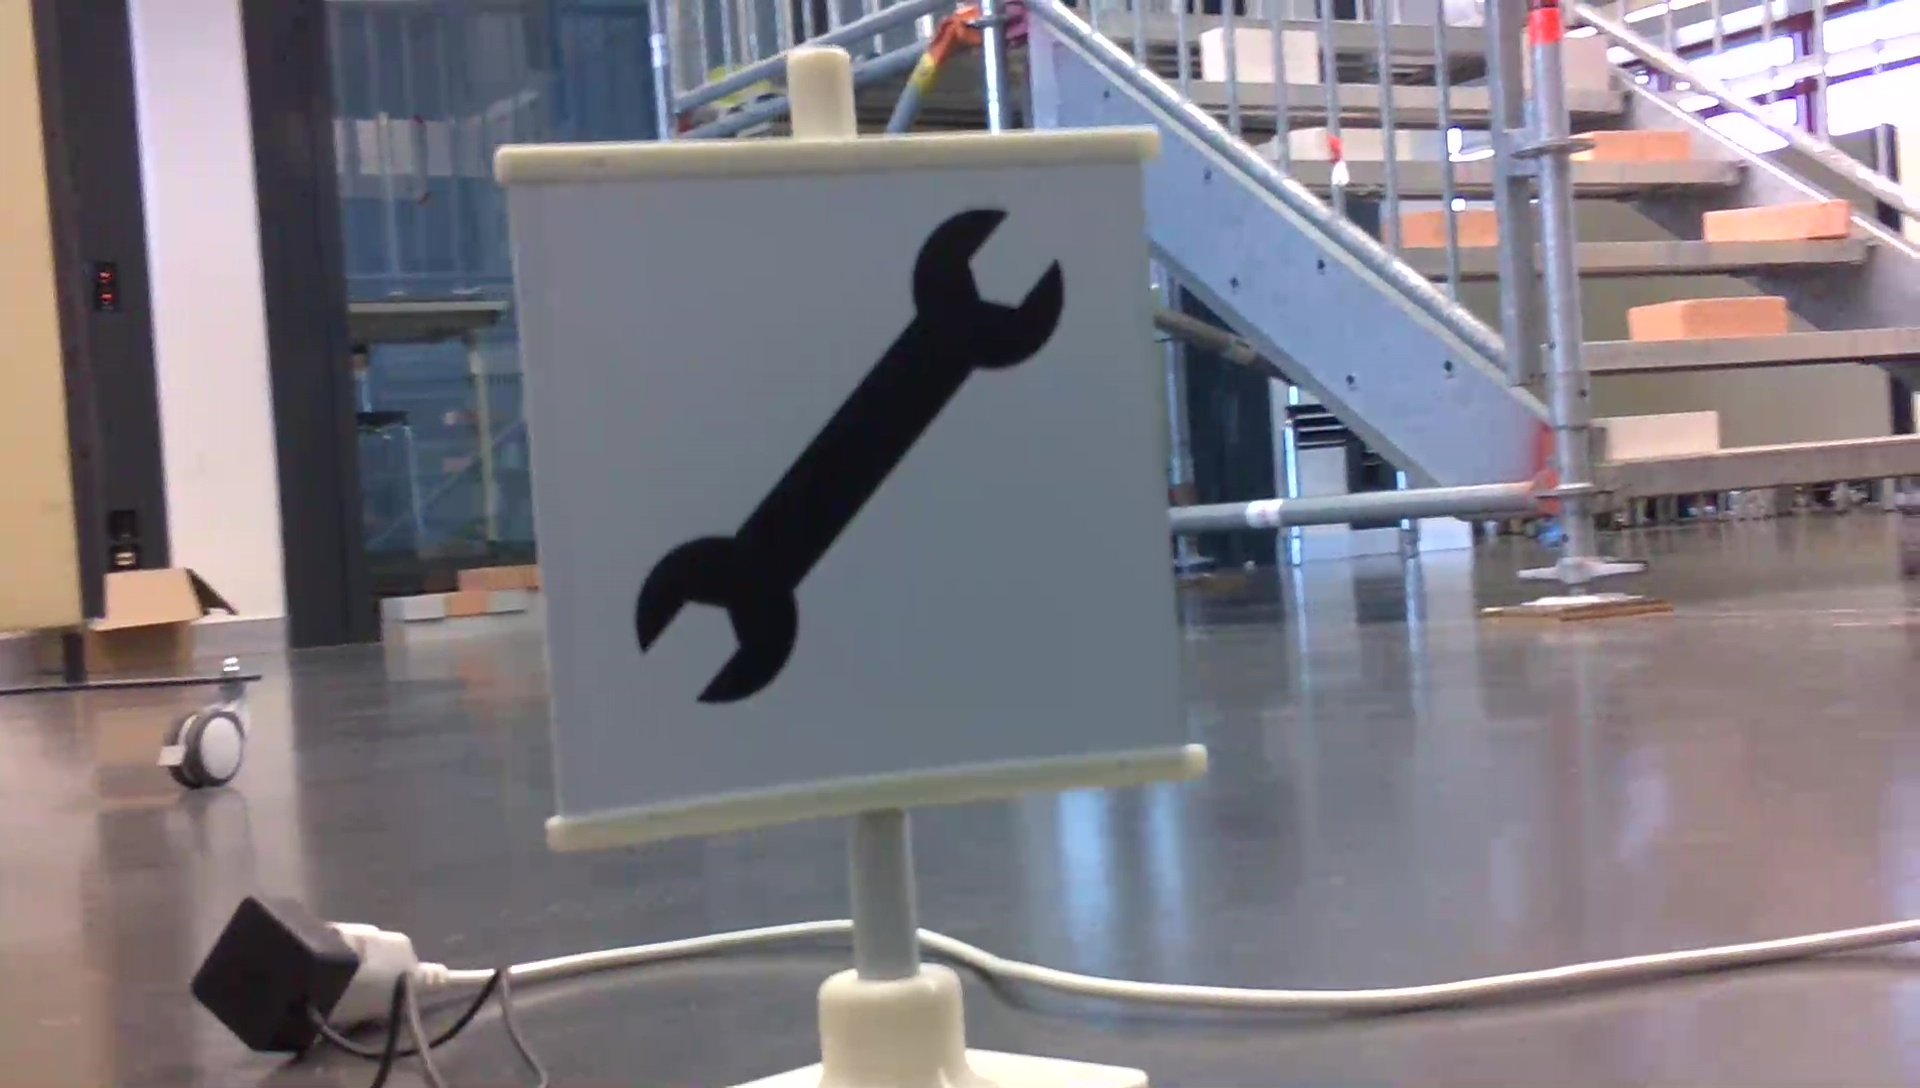brick: (1629, 295, 1783, 340), (1702, 200, 1850, 239), (1604, 410, 1717, 458), (1576, 131, 1689, 160), (1560, 36, 1604, 87)
wrench: (625, 195, 1071, 715)
